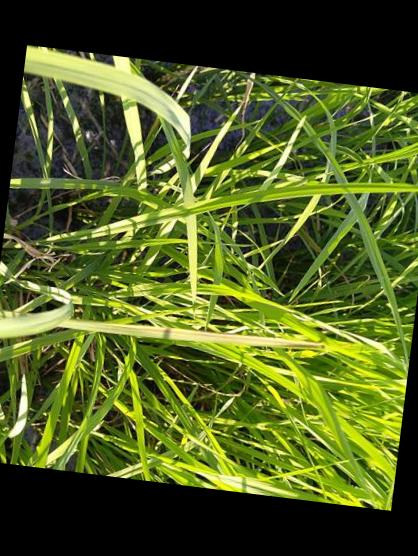Leaf Streak: (82, 321, 322, 348)
